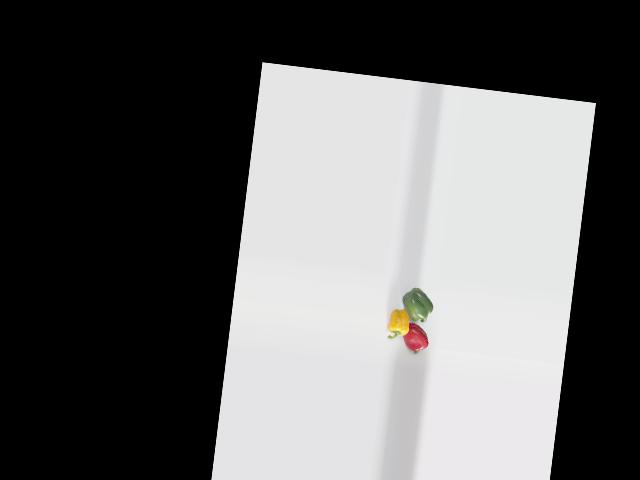bell_pepper: (384, 307, 415, 341)
